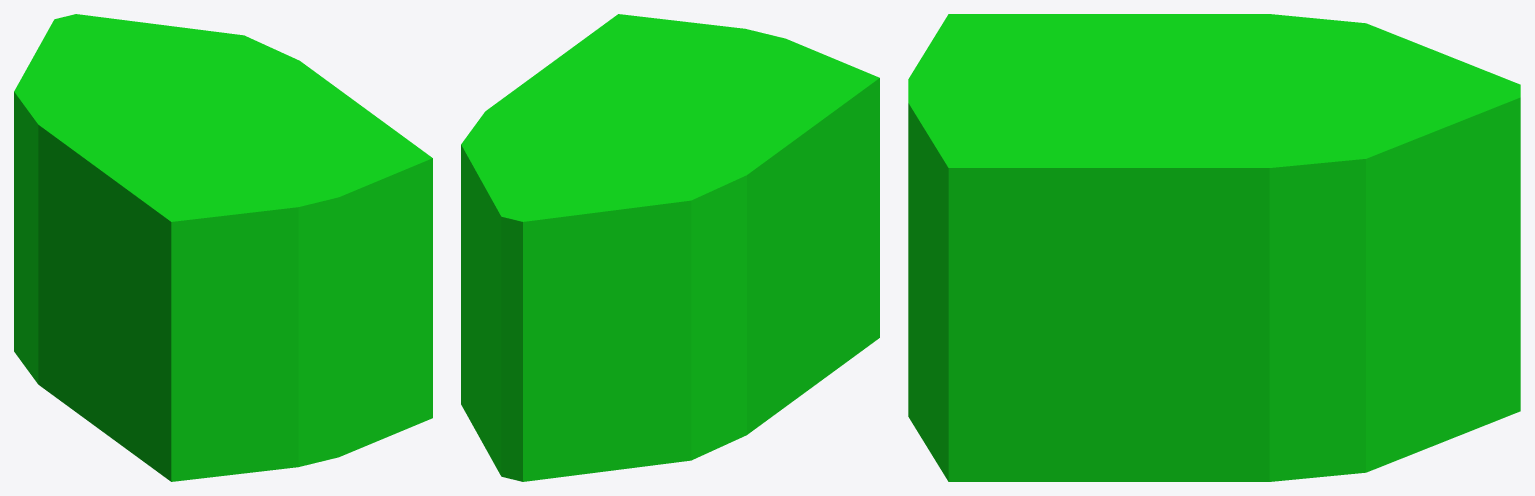
The model's file is TriggerMainIsland.fbx.
3 views of the same model, side by side, from view 1: azimuth 30°, elevation 25°; view 2: azimuth 150°, elevation 25°; view 3: azimuth 270°, elevation 25° (orthographic). The views are drawn at different scales.
Visible parts, largest first — view 1: Island; view 2: Island; view 3: Island.
Boxes of the visible parts, box(x1,y1,x2,y2) form: Island: box(14, 14, 432, 481); Island: box(461, 14, 879, 481); Island: box(908, 14, 1520, 481).
Size of the model in its own units: 4540 by 4313 by 7622.
